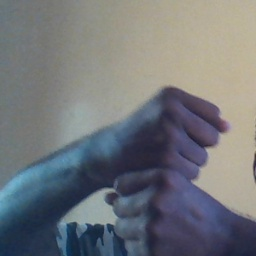G: (108, 84, 227, 256)
